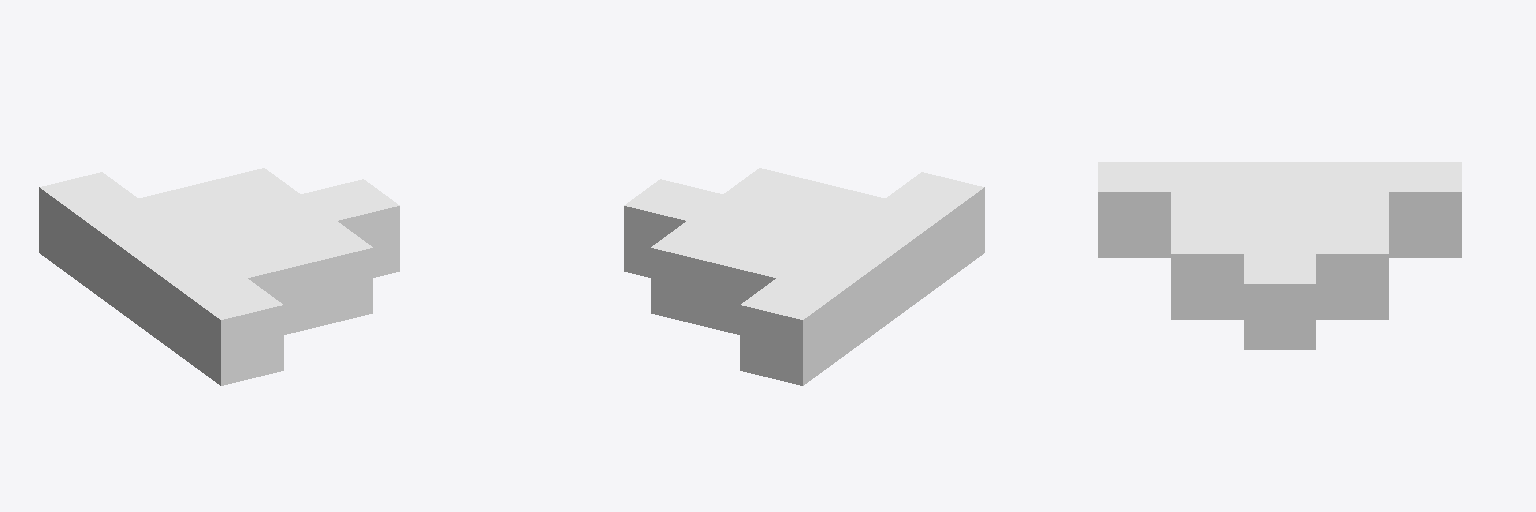
File: pistol.obj
The picture shows the model from 3 angles: view 1: azimuth 30°, elevation 25°; view 2: azimuth 150°, elevation 25°; view 3: azimuth 270°, elevation 25°; orthographic projection.
Parts seen in each view (by area): view 1: object 1; view 2: object 1; view 3: object 1.
Boxes of the visible parts, x1,y1,x2,y2 form: object 1: [39, 168, 399, 385]; object 1: [624, 168, 984, 385]; object 1: [1098, 162, 1461, 349].
Size of the model in its own units: 0.4 by 0.1 by 0.5.